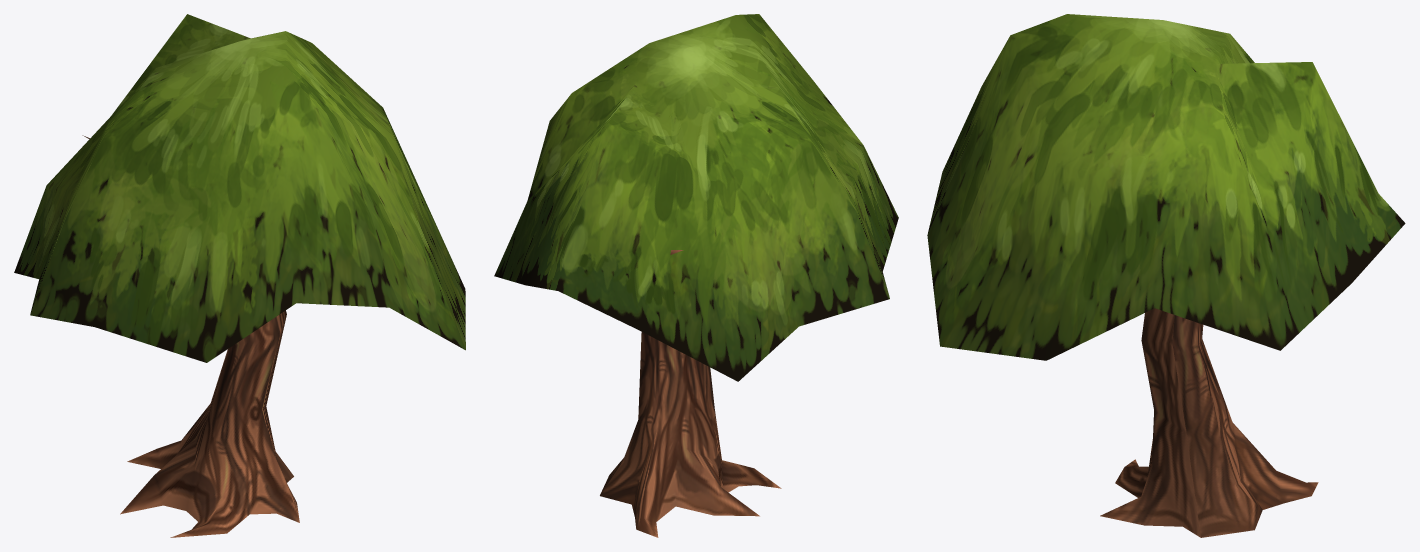
The model's file is tree_TreeWillow.FBX.
3 renders of one model, left to right at view 1: azimuth 30°, elevation 25°; view 2: azimuth 150°, elevation 25°; view 3: azimuth 270°, elevation 25°, orthographic. The views are drawn at different scales.
Parts seen in each view (by area): view 1: env_Foliage2, env_TreeTrunk1; view 2: env_Foliage2, env_TreeTrunk1; view 3: env_Foliage2, env_TreeTrunk1.
Boxes of the visible parts, box(x1,y1,x2,y2) form: env_Foliage2: box(14, 14, 465, 362); env_TreeTrunk1: box(82, 135, 299, 537); env_Foliage2: box(494, 14, 898, 381); env_TreeTrunk1: box(600, 250, 781, 537); env_Foliage2: box(927, 14, 1405, 360); env_TreeTrunk1: box(1100, 308, 1318, 537).
Size of the model in its own units: 36.94 by 38.31 by 43.06.
Materials: 2 (2 with a texture image).
